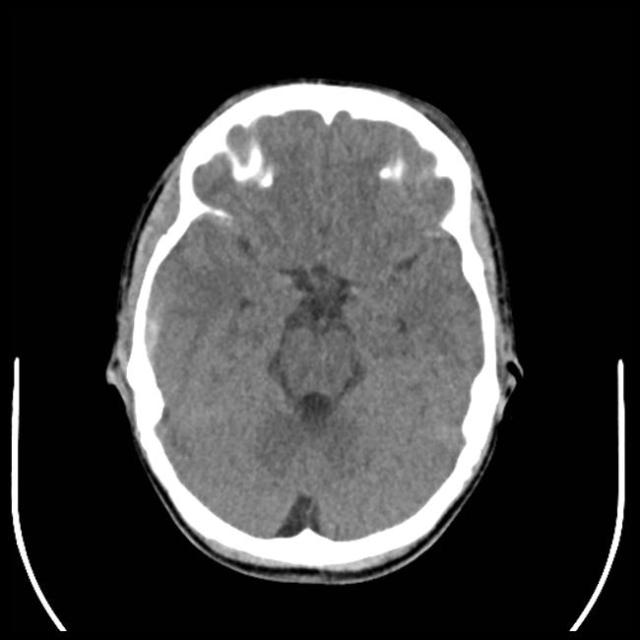lesion: (103, 77, 526, 582)
